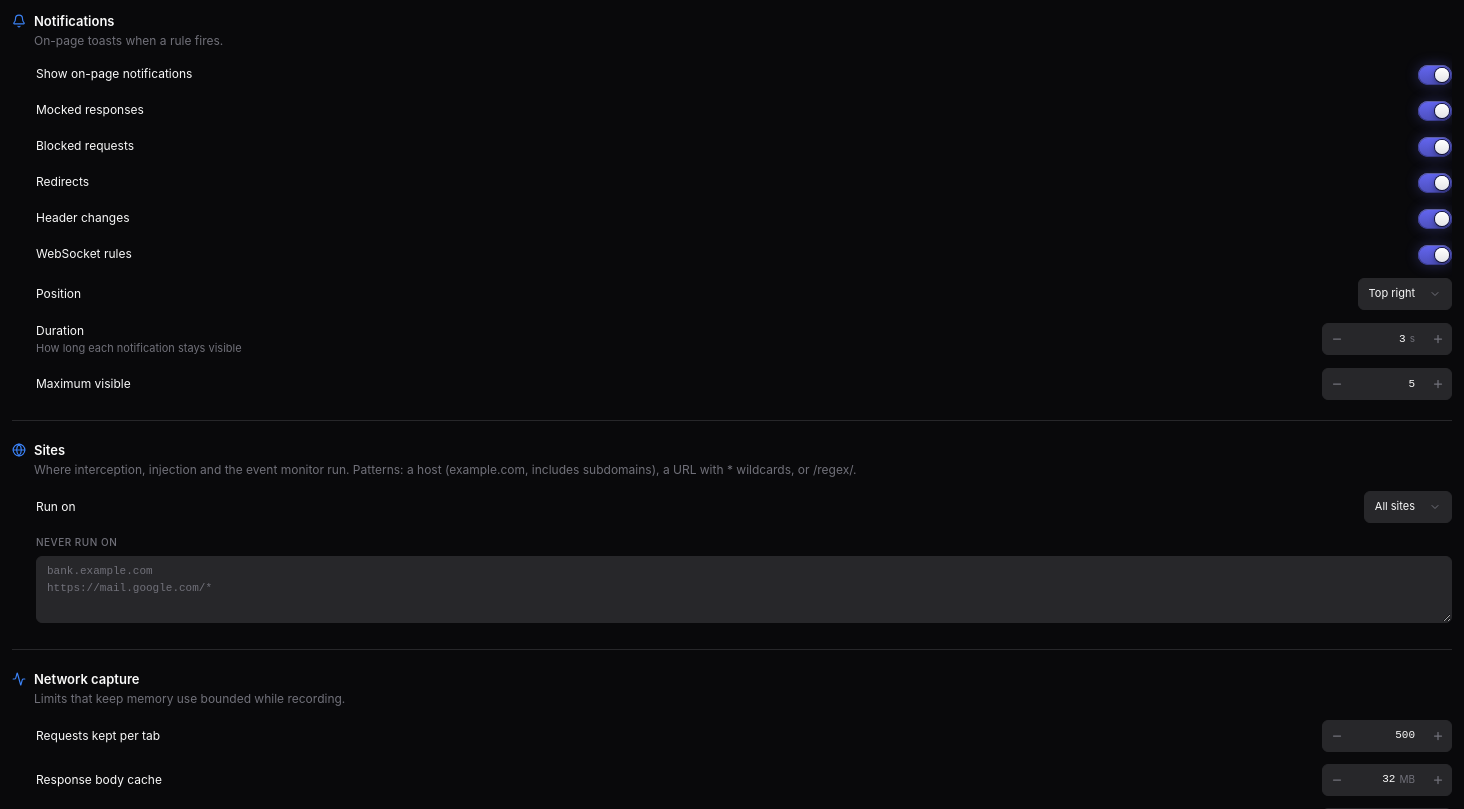
Test: SettingsPanel › disables per-event and display controls when page toasts are off
The image size is (1464, 809).
Expected: the heading "Notifications" is shown, [34,13,114,29]
Click the switch named "Show on-page notifications": (1435, 75) [1418,65,1452,85]
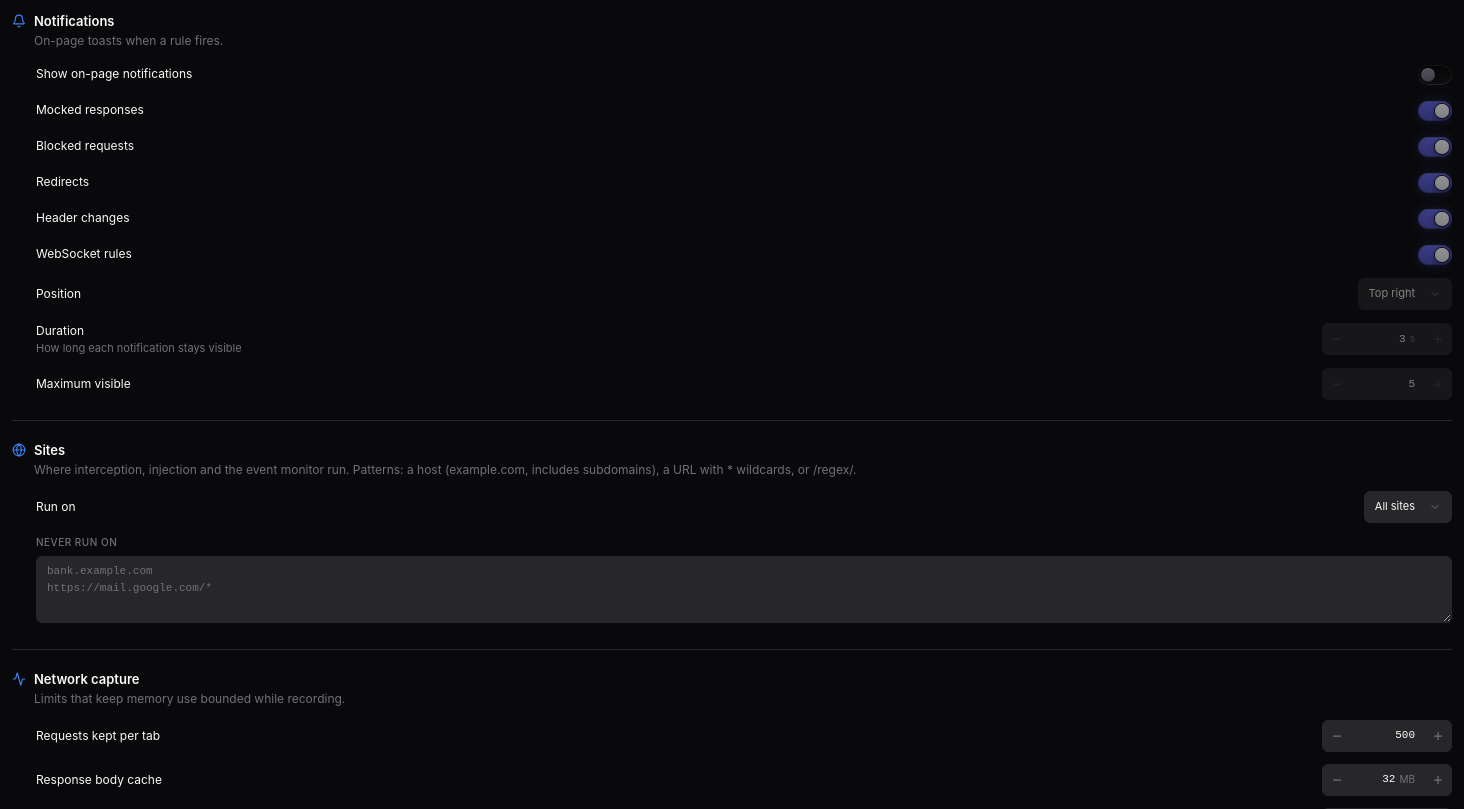
Expected: the switch named "Show on-page notifications" is not checked, [1418,65,1452,85]
Expected: the switch named "Notify: Mocked responses" is disabled, [1418,101,1452,121]
Expected: the number field named "Notification duration" is disabled, [1386,330,1406,347]
